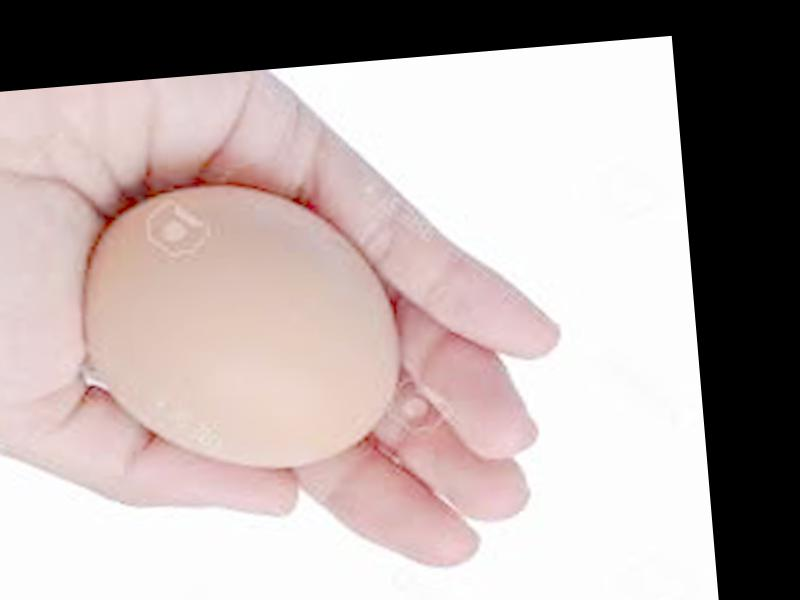Eggs: (72, 174, 408, 482)
